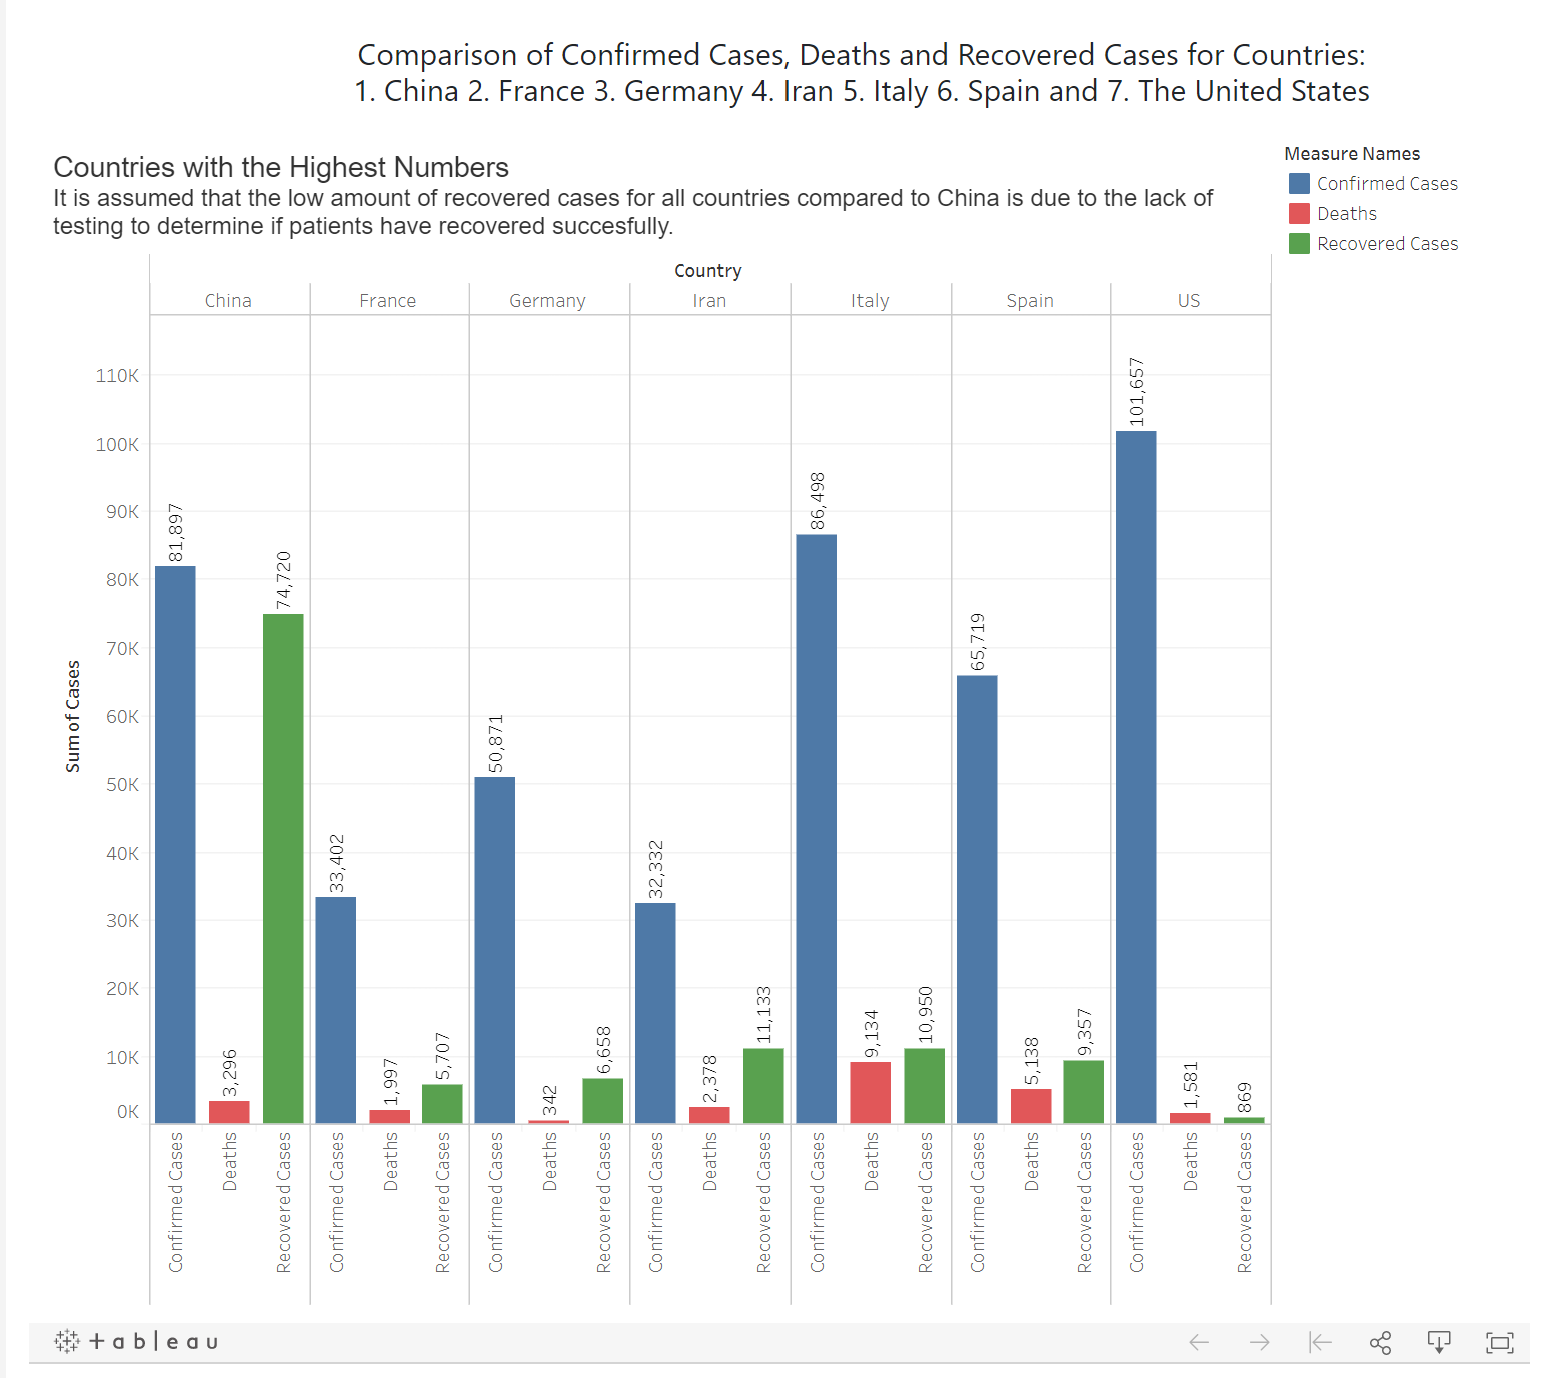

The dashboard page shown, as its layout file describes it:
{"tool":"tableau","page":{"name":"Dashboard 2","canvas":[1000,800],"ordinal":1},"visuals":[{"type":"worksheet","title":"MAIN COUNTRIES","mark":"Automatic","cols":["COUNTRY"],"box":[8,8,824,784]},{"type":"legend","title":"MAIN COUNTRIES","param":"[federated.057lrhp1kpov1n15k9xs00nzdrb2].[:Measure Names]","box":[832,8,160,86]}]}

Visuals, with their boxes on the page's 1000x800 design canvas (x1, y1, x2, y2). These are canvas units, not pixel positions in the 1566x1378 screenshot, which may show the page scaled, cropped or inside an application window:
"MAIN COUNTRIES" worksheet: region(8, 8, 832, 792)
"MAIN COUNTRIES" legend: region(832, 8, 992, 94)
